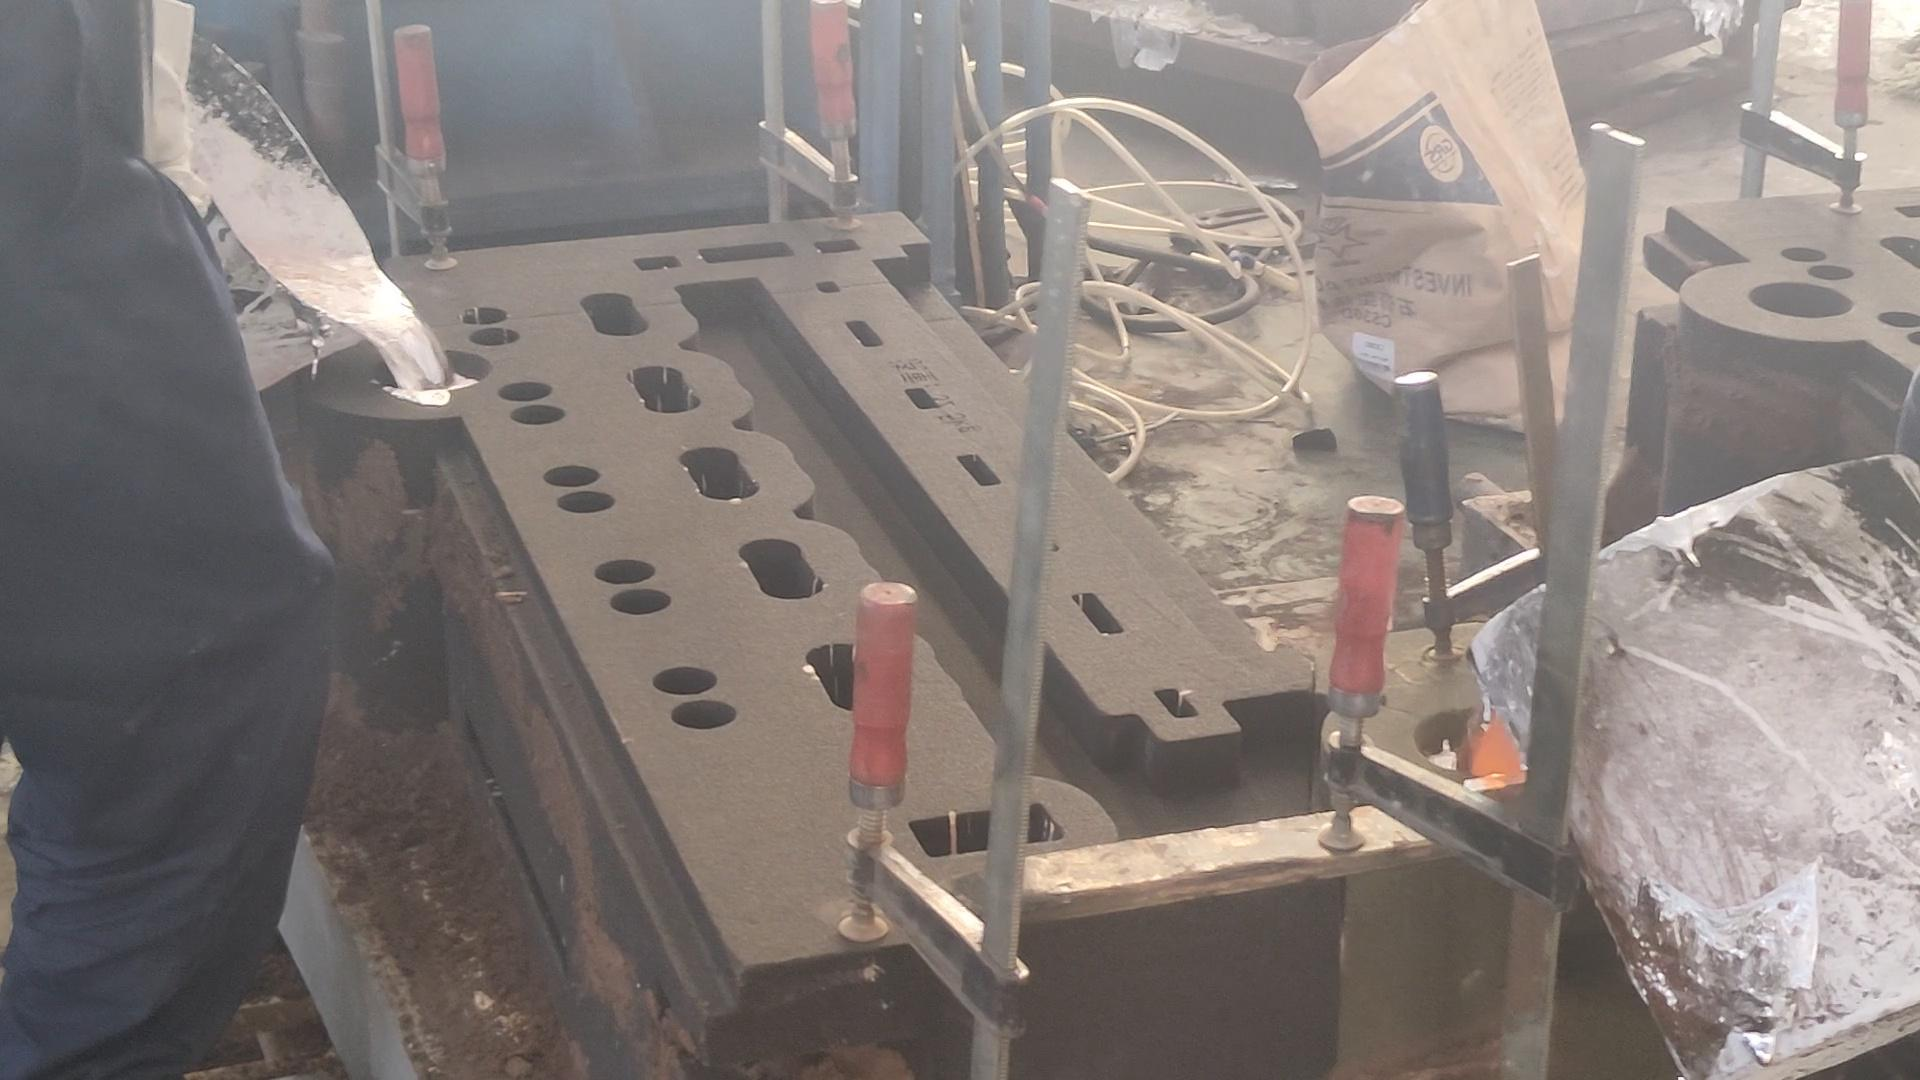pouring hole: (1414, 705, 1539, 773), (372, 349, 493, 393), (1749, 281, 1855, 318)
